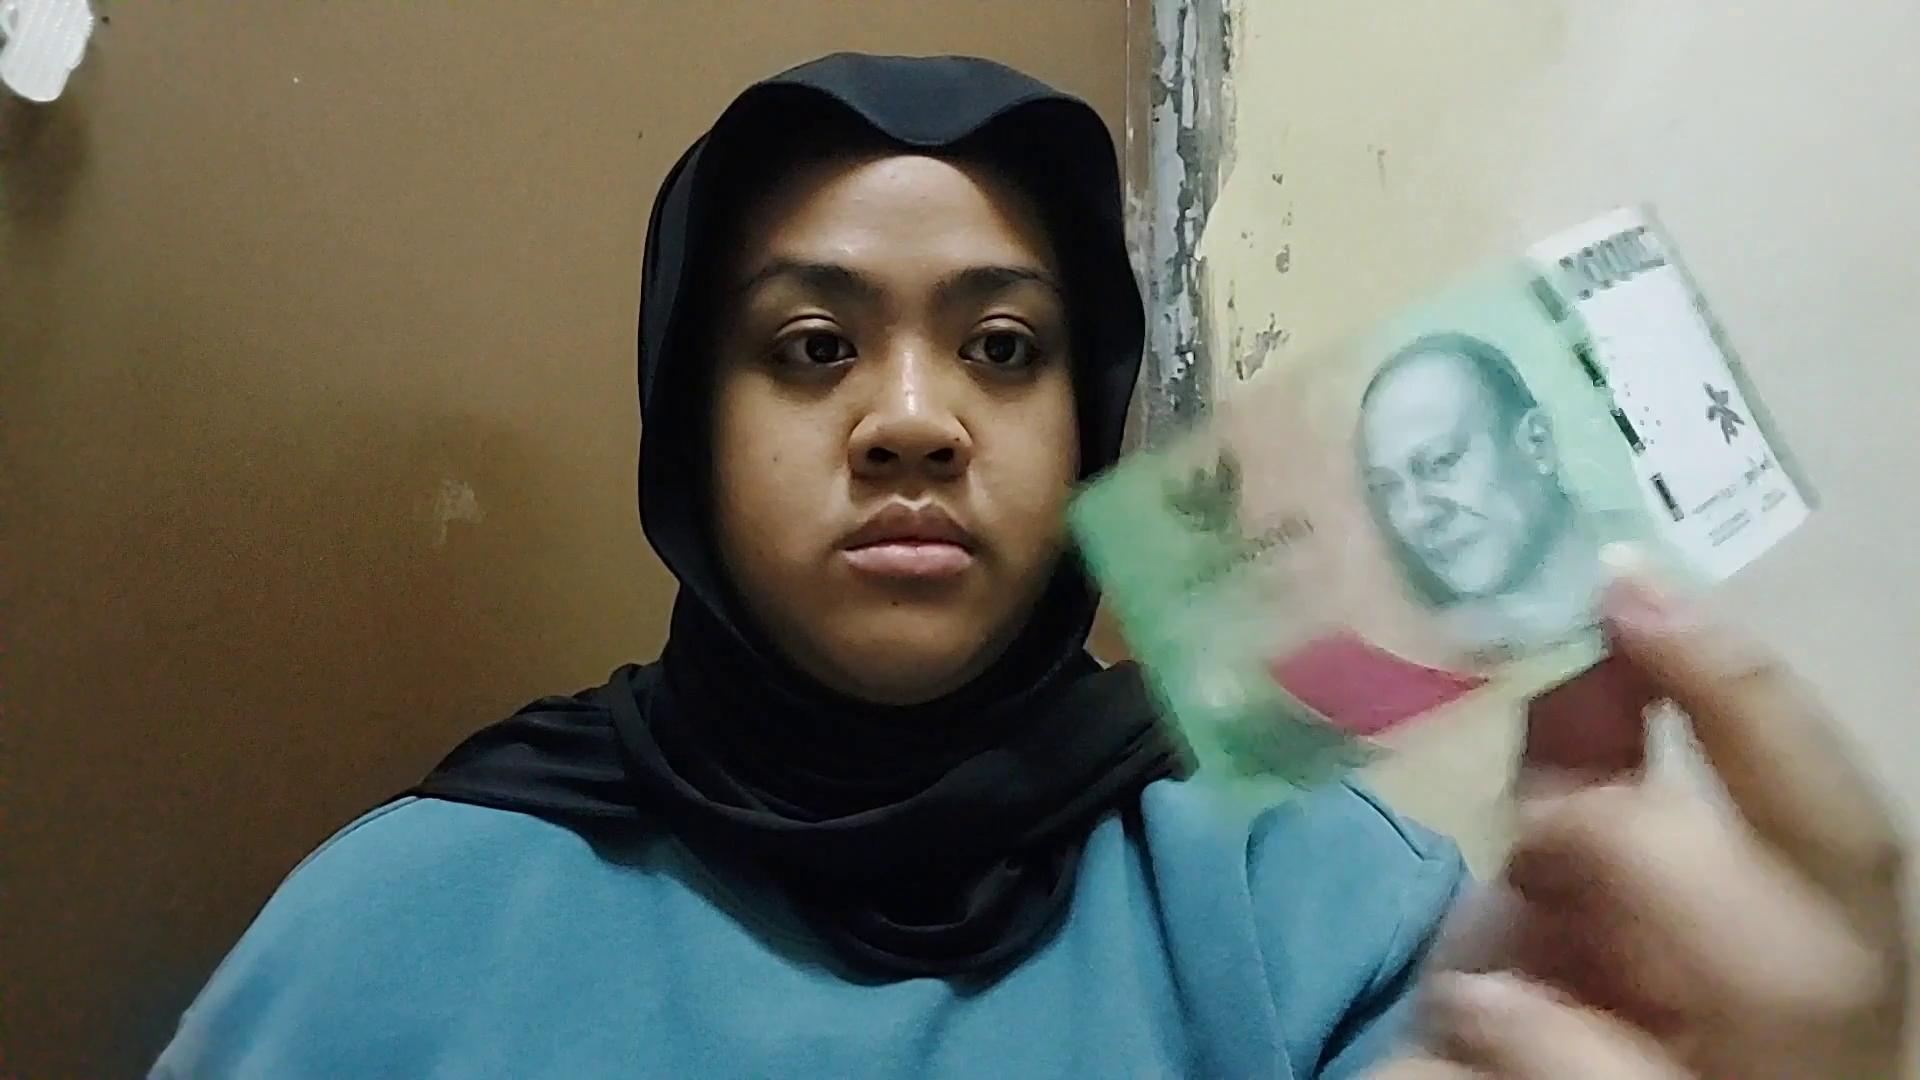20k: (1040, 425, 1726, 855)
